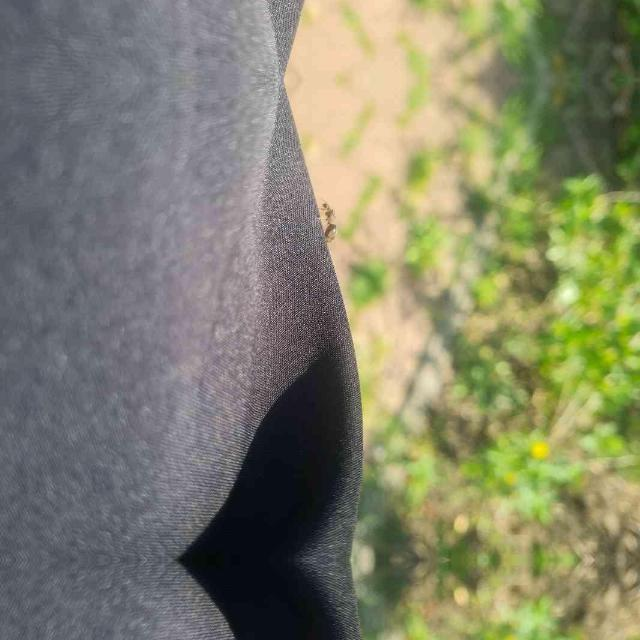Lasius: (316, 190, 344, 246)
